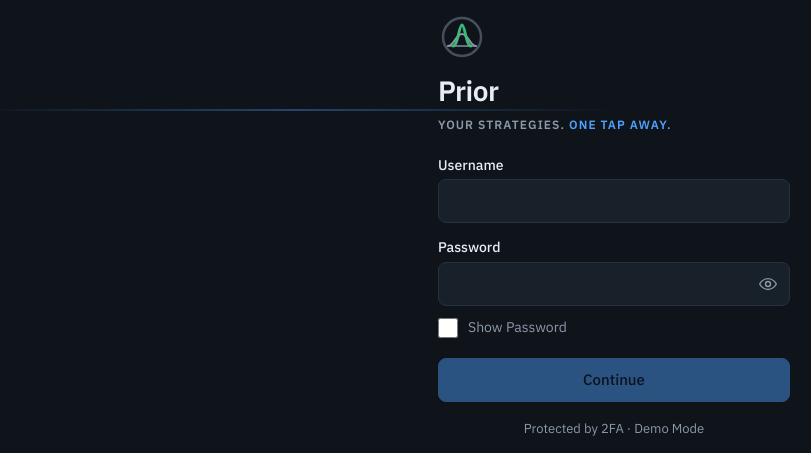
Scenario: login: Show Password (item 20) › the eye button toggles the same state and is labelled for screen readers
Click the button named "reveal password text" at point(768, 284), box [746,262,790,306]
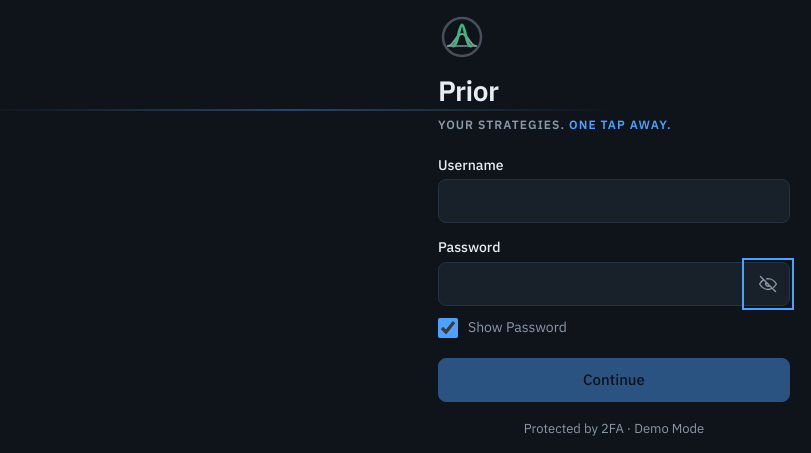
Expected: the checkbox labelled "Show Password" is checked, [438,318,458,338]
Click the button named "hide password text" at point(768, 284), box [746,262,790,306]
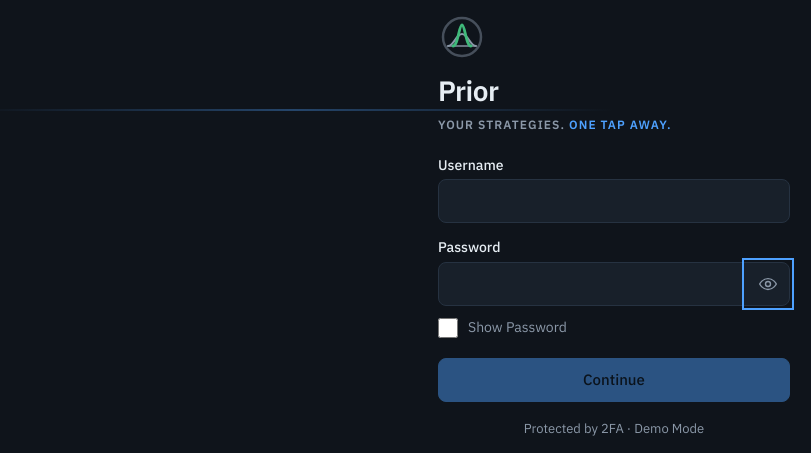
Expected: the checkbox labelled "Show Password" is not checked, [438,318,458,338]
